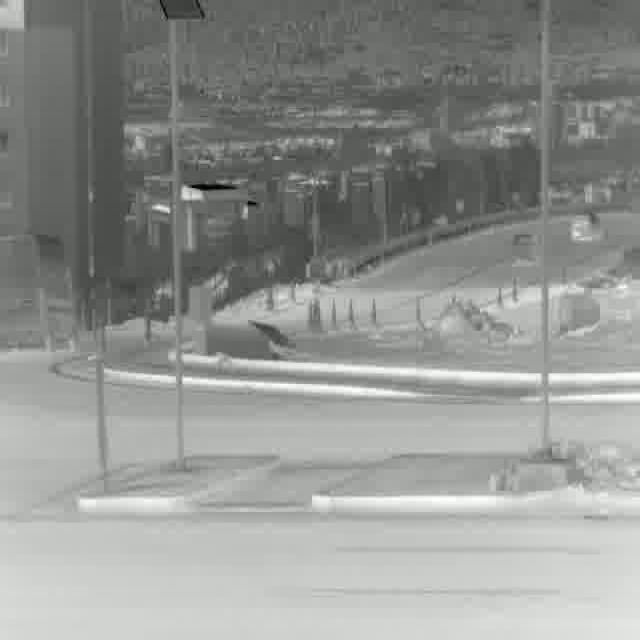Car: (0, 231, 73, 357), (572, 206, 608, 245), (510, 231, 539, 268)
